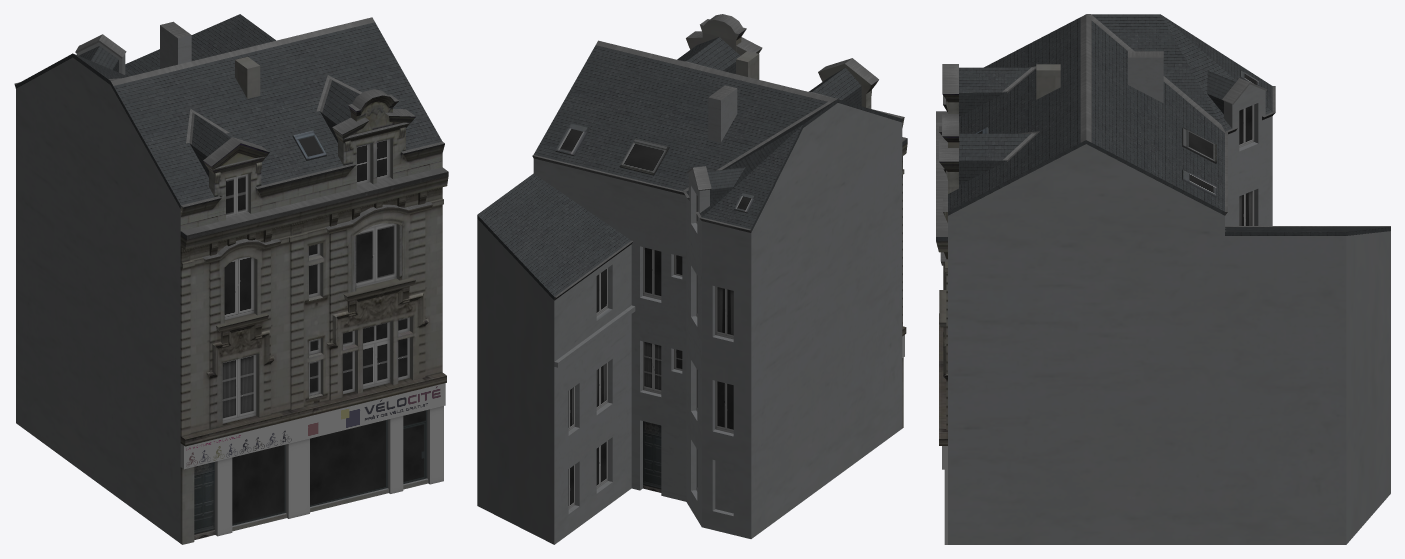
Rendered from angers_shop_2_france.glb.
The picture shows the model from 3 angles, left to right: view 1: azimuth 30°, elevation 25°; view 2: azimuth 150°, elevation 25°; view 3: azimuth 270°, elevation 25°; orthographic projection. The views are drawn at different scales.
Parts seen in each view (by area): view 1: 1130253906.French Flat 3 [Angers]; view 2: 1130253906.French Flat 3 [Angers]; view 3: 1130253906.French Flat 3 [Angers].
Boxes of the visible parts, x1,y1,x2,y2 form: 1130253906.French Flat 3 [Angers]: [14, 14, 448, 544]; 1130253906.French Flat 3 [Angers]: [477, 14, 907, 544]; 1130253906.French Flat 3 [Angers]: [936, 14, 1390, 544].
Size of the model in its own units: 10 by 15.22 by 15.29.
1 material, 1 textured.
